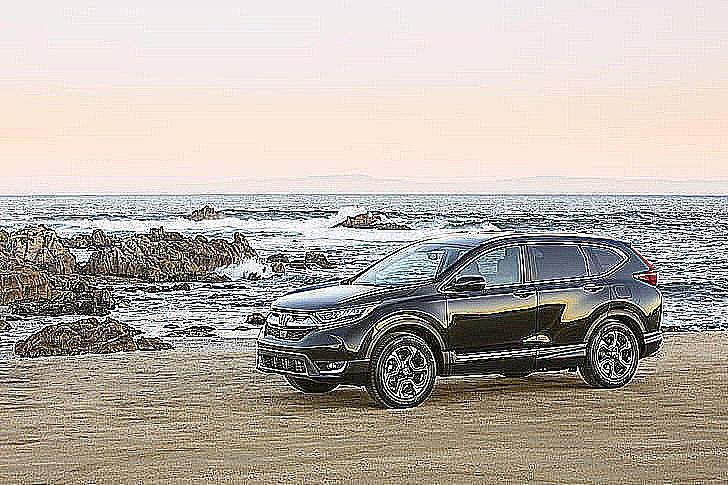Car hood: (269, 279, 420, 315)
Fender - -F-L-: (365, 278, 447, 381)
Fender - -R-L-: (606, 271, 652, 328)
Front bumper: (249, 327, 382, 386)
Headlight - -L-: (309, 299, 387, 336)
Passenger-s door - -F-L-: (448, 239, 537, 361)
Passenger-s door - -R-L-: (538, 239, 611, 359)
Rear bumper: (640, 296, 671, 361)
Rear light - -L-: (625, 241, 661, 289)
Side bumper - -L-: (431, 341, 593, 378)
Side mirror - -L-: (448, 273, 490, 299)
